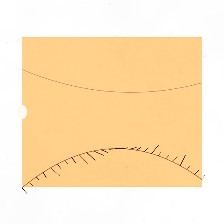hemorrhage_spot: (58, 75, 133, 136)
